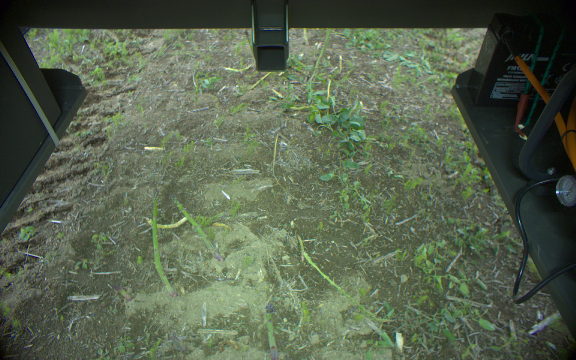aspa: (175, 198, 223, 262), (147, 188, 175, 297), (307, 26, 335, 88), (261, 302, 281, 360), (242, 30, 251, 51), (301, 26, 307, 42)
